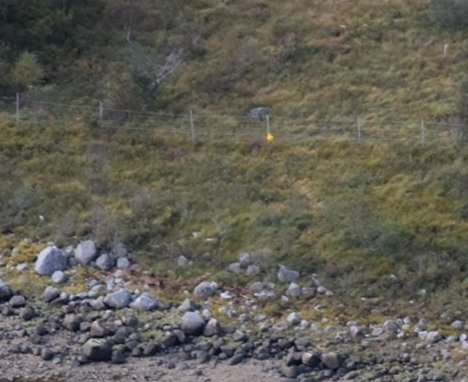white_in_green: (249, 116, 292, 158)
